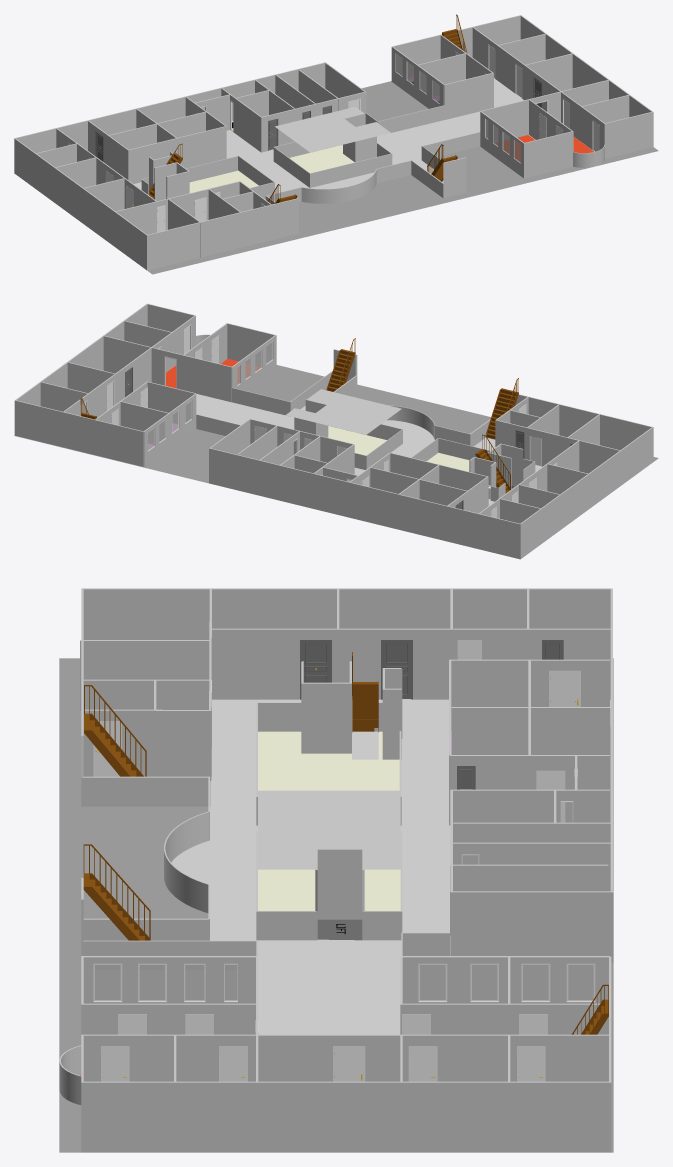
Rendered from 2nd floor.obj.
The picture shows the model from 3 angles, top to bottom: view 1: azimuth 30°, elevation 25°; view 2: azimuth 150°, elevation 25°; view 3: azimuth 270°, elevation 25°; orthographic projection. The views are drawn at different scales.
Visible parts, largest first — view 1: ground_1, wall_1_5, room_114_556, wall_7_41, wall_9_53, room_118_561, wall_41_238, wall_48_281, wall_44_257, wall_64_377, wall_13_71, wall_15_83 (+56 smaller); view 2: wall_7_40, ground_1, room_114_556, room_118_561, wall_1_4, wall_39_226, wall_50_293, wall_45_263, wall_64_377, wall_13_70, wall_9_52, wall_85_497 (+46 smaller); view 3: room_114_556, ground_1, wall_65_383, wall_64_376, wall_16_89, room_118_561, wall_68_401, wall_11_58, wall_69_407, wall_87_509, wall_2_11, wall_8_47 (+51 smaller).
Part boxes in pixels (x1=…): ground_1: x1=147, y1=77, x2=658, y2=274; wall_1_5: x1=147, y1=198, x2=298, y2=270; room_114_556: x1=134, y1=78, x2=594, y2=199; wall_7_41: x1=16, y1=63, x2=325, y2=153; wall_9_53: x1=128, y1=126, x2=226, y2=183; room_118_561: x1=275, y1=107, x2=390, y2=152; wall_41_238: x1=444, y1=73, x2=493, y2=119; wall_48_281: x1=524, y1=131, x2=573, y2=178; wall_44_257: x1=604, y1=112, x2=653, y2=158; wall_64_377: x1=524, y1=65, x2=604, y2=149; wall_13_71: x1=110, y1=112, x2=205, y2=149; wall_15_83: x1=261, y1=92, x2=366, y2=152; wall_7_40: x1=210, y1=448, x2=520, y2=558; ground_1: x1=14, y1=365, x2=658, y2=559; room_114_556: x1=166, y1=363, x2=542, y2=505; room_118_561: x1=285, y1=389, x2=401, y2=434; wall_1_4: x1=515, y1=395, x2=651, y2=450; wall_39_226: x1=94, y1=420, x2=143, y2=466; wall_50_293: x1=182, y1=355, x2=231, y2=402; wall_45_263: x1=14, y1=400, x2=62, y2=447; wall_64_377: x1=116, y1=316, x2=195, y2=403; wall_13_70: x1=370, y1=467, x2=466, y2=505; wall_9_52: x1=390, y1=453, x2=486, y2=490; wall_85_497: x1=495, y1=420, x2=577, y2=466; room_114_556: x1=171, y1=699, x2=610, y2=1034; ground_1: x1=59, y1=658, x2=613, y2=1152; wall_65_383: x1=81, y1=1082, x2=401, y2=1152; wall_64_376: x1=83, y1=1035, x2=400, y2=1081; wall_16_89: x1=450, y1=892, x2=613, y2=962; room_118_561: x1=258, y1=790, x2=400, y2=869; wall_68_401: x1=401, y1=1082, x2=509, y2=1152; wall_11_58: x1=451, y1=708, x2=609, y2=754; wall_69_407: x1=509, y1=1082, x2=611, y2=1152; wall_87_509: x1=212, y1=629, x2=338, y2=699; wall_2_11: x1=83, y1=710, x2=211, y2=780; wall_8_47: x1=451, y1=660, x2=609, y2=730.
Size of the model in its own units: 3695 by 362 by 1749.
41 materials, 25 textured.
